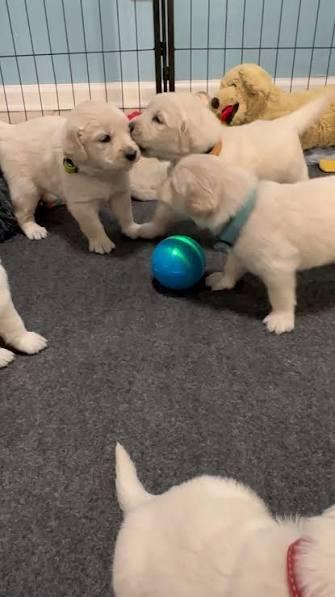non-dog: (210, 61, 335, 152)
puppy-dog: (110, 442, 335, 597), (151, 154, 335, 335), (0, 101, 140, 256), (129, 89, 335, 186), (0, 260, 48, 368)
